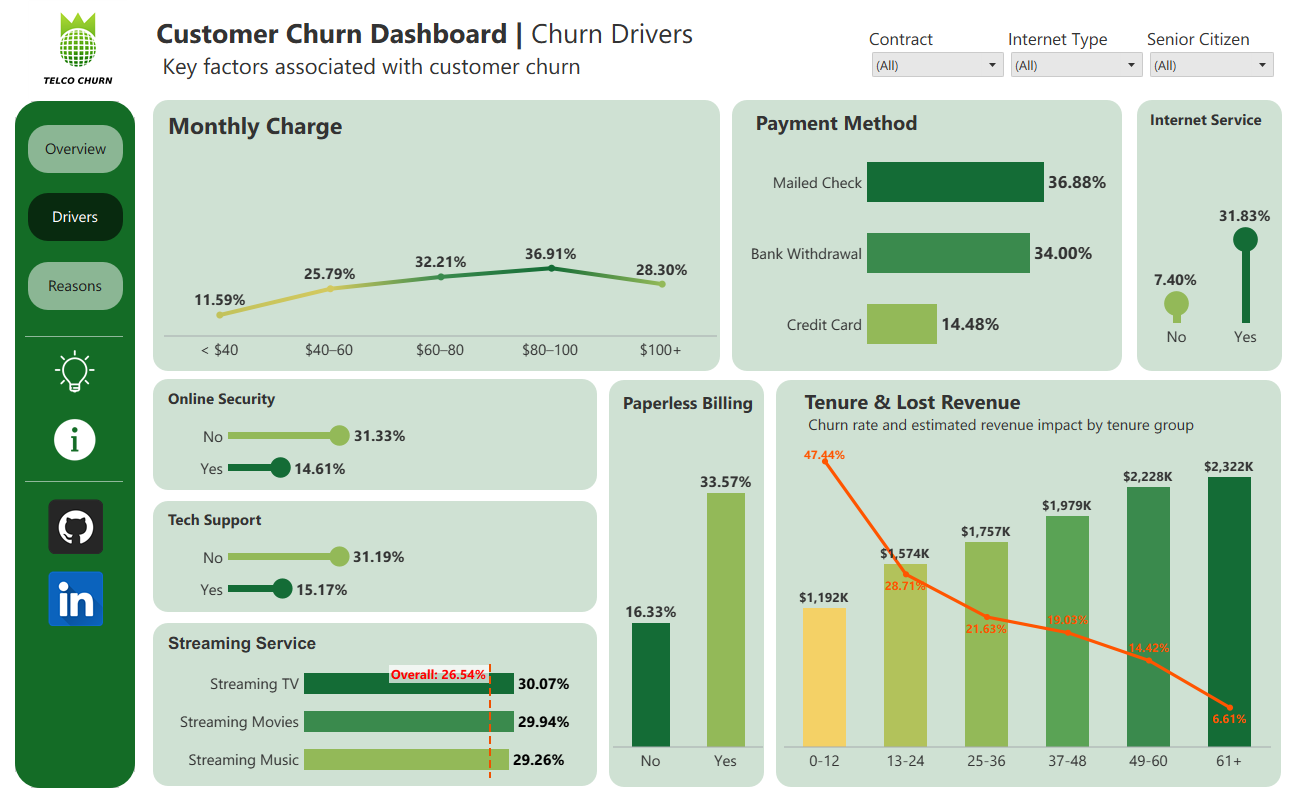

What the dashboard file says about the page in this screenshot:
{"tool":"tableau","page":{"name":"Churn Drivers","canvas":[1300,800],"ordinal":1},"visuals":[{"type":"image","param":"Image/logo telco churn.png","box":[12,3,135,99]},{"type":"title","box":[155,12,1145,76]},{"type":"filter","title":"Monthly Charge","param":"[federated.0dy3o9a1uu2yej10acfmx0xb347r].[none:Contract:nk]","box":[871,30,138,51]},{"type":"filter","title":"Monthly Charge","param":"[federated.0dy3o9a1uu2yej10acfmx0xb347r].[none:Internet Type:nk]","box":[1010,30,138,51]},{"type":"filter","title":"Monthly Charge","param":"[federated.0dy3o9a1uu2yej10acfmx0xb347r].[none:Senior Citizen:nk]","box":[1149,30,130,51]},{"type":"blank","box":[155,103,567,271]},{"type":"blank","box":[734,103,390,271]},{"type":"blank","box":[1139,103,145,271]},{"type":"worksheet","title":"Payment Method","mark":"Bar","rows":["Payment Method"],"cols":["Calculation_0893677035679745"],"box":[737,107,385,255]},{"type":"worksheet","title":"Monthly Charge","mark":"Line","rows":["Calculation_0893677035679745"],"cols":["Calculation_1413473045327872"],"box":[166,108,553,255]},{"type":"worksheet","title":"Internet Service","mark":"Circle","rows":["Calculation_0893677035679745","Calculation_0893677035679745"],"cols":["Internet Service"],"box":[1144,108,138,242]},{"type":"dashboard-object","box":[30,128,95,48]},{"type":"dashboard-object","box":[30,196,95,48]},{"type":"dashboard-object","box":[30,265,95,48]},{"type":"blank","box":[27,339,98,1]},{"type":"dashboard-object","box":[54,352,45,45]},{"type":"blank","box":[155,382,444,111]},{"type":"blank","box":[611,383,155,407]},{"type":"blank","box":[778,383,505,407]},{"type":"worksheet","title":"Tenure & Lost Revenue","mark":"Automatic","rows":["Calculation_0317810372440065","Calculation_0893677035679745"],"cols":["Calculation_0893677042634755"],"box":[786,386,487,388]},{"type":"worksheet","title":"Online Security","mark":"Circle","rows":["Online Security"],"cols":["Calculation_0893677035679745","Calculation_0893677035679745"],"box":[166,387,421,100]},{"type":"worksheet","title":"Paperless Billing","mark":"Bar","rows":["Calculation_0893677035679745"],"cols":["Paperless Billing"],"box":[615,390,150,392]},{"type":"dashboard-object","box":[54,420,45,45]},{"type":"blank","box":[27,484,98,1]},{"type":"image","param":"Image/github.png","box":[50,502,55,55]},{"type":"blank","box":[155,504,444,111]},{"type":"worksheet","title":"Tech Support","mark":"Circle","rows":["Premium Tech Support"],"cols":["Calculation_0893677035679745","Calculation_0893677035679745"],"box":[166,508,421,100]},{"type":"image","param":"Image/linkedin.png","box":[50,574,55,55]},{"type":"blank","box":[155,626,444,163]},{"type":"worksheet","title":"Streaming Service","mark":"Bar","rows":["Pivot Field Names"],"cols":["Calculation_0893677035679745"],"box":[166,633,421,148]}]}

Visuals, with their boxes in screenshot pixels (x1, y1, x2, y2), scaled from the page's 1300x800 canvas onto the 1294x795 screenshot:
image: {"x1": 12, "y1": 3, "x2": 146, "y2": 101}
title: {"x1": 154, "y1": 12, "x2": 1293, "y2": 87}
"Monthly Charge" filter: {"x1": 867, "y1": 30, "x2": 1004, "y2": 80}
"Monthly Charge" filter: {"x1": 1005, "y1": 30, "x2": 1143, "y2": 80}
"Monthly Charge" filter: {"x1": 1144, "y1": 30, "x2": 1273, "y2": 80}
blank: {"x1": 154, "y1": 102, "x2": 719, "y2": 372}
blank: {"x1": 731, "y1": 102, "x2": 1119, "y2": 372}
blank: {"x1": 1134, "y1": 102, "x2": 1278, "y2": 372}
"Payment Method" worksheet (Bar marks): {"x1": 734, "y1": 106, "x2": 1117, "y2": 360}
"Monthly Charge" worksheet (Line marks): {"x1": 165, "y1": 107, "x2": 716, "y2": 361}
"Internet Service" worksheet (Circle marks): {"x1": 1139, "y1": 107, "x2": 1276, "y2": 348}
dashboard-object: {"x1": 30, "y1": 127, "x2": 124, "y2": 175}
dashboard-object: {"x1": 30, "y1": 195, "x2": 124, "y2": 242}
dashboard-object: {"x1": 30, "y1": 263, "x2": 124, "y2": 311}
blank: {"x1": 27, "y1": 337, "x2": 124, "y2": 338}
dashboard-object: {"x1": 54, "y1": 350, "x2": 99, "y2": 395}
blank: {"x1": 154, "y1": 380, "x2": 596, "y2": 490}
blank: {"x1": 608, "y1": 381, "x2": 762, "y2": 785}
blank: {"x1": 774, "y1": 381, "x2": 1277, "y2": 785}
"Tenure & Lost Revenue" worksheet: {"x1": 782, "y1": 384, "x2": 1267, "y2": 769}
"Online Security" worksheet (Circle marks): {"x1": 165, "y1": 385, "x2": 584, "y2": 484}
"Paperless Billing" worksheet (Bar marks): {"x1": 612, "y1": 388, "x2": 761, "y2": 777}
dashboard-object: {"x1": 54, "y1": 417, "x2": 99, "y2": 462}
blank: {"x1": 27, "y1": 481, "x2": 124, "y2": 482}
image: {"x1": 50, "y1": 499, "x2": 105, "y2": 554}
blank: {"x1": 154, "y1": 501, "x2": 596, "y2": 611}
"Tech Support" worksheet (Circle marks): {"x1": 165, "y1": 505, "x2": 584, "y2": 604}
image: {"x1": 50, "y1": 570, "x2": 105, "y2": 625}
blank: {"x1": 154, "y1": 622, "x2": 596, "y2": 784}
"Streaming Service" worksheet (Bar marks): {"x1": 165, "y1": 629, "x2": 584, "y2": 776}
